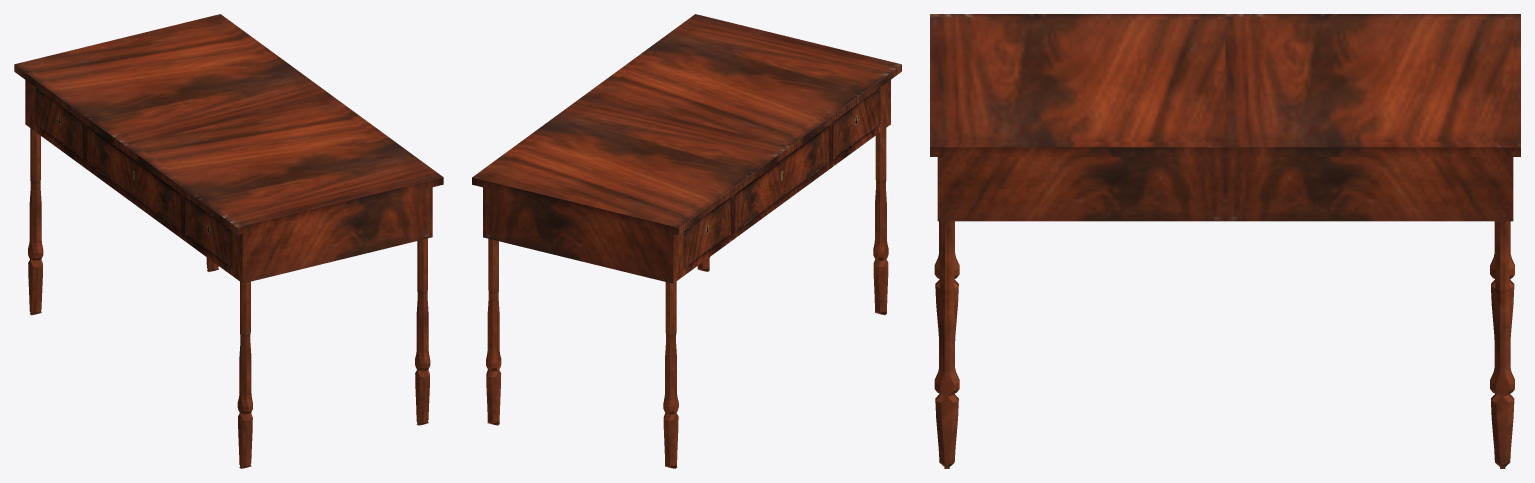
The picture shows the model from 3 angles, left to right: view 1: azimuth 30°, elevation 25°; view 2: azimuth 150°, elevation 25°; view 3: azimuth 270°, elevation 25°; orthographic projection. The views are drawn at different scales.
Parts seen in each view (by area): view 1: Cube.002; view 2: Cube.002; view 3: Cube.002.
Part boxes in pixels (left/top/right/bottom): Cube.002: left=14, top=14, right=443, bottom=468; Cube.002: left=472, top=14, right=901, bottom=468; Cube.002: left=930, top=14, right=1520, bottom=468.
Size of the model in its own units: 2.17 by 2.49 by 4.07.
Materials: 1 (1 with a texture image).
